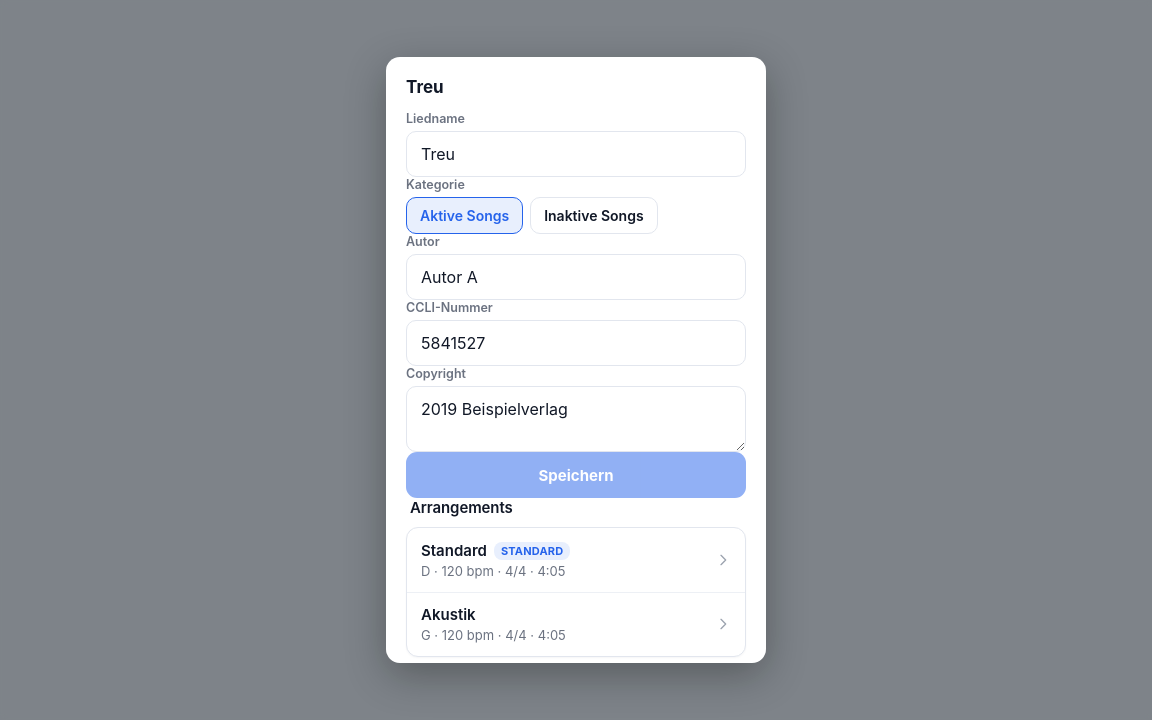
Test case: EditSongSheet – Arrangements (#396) › am zweiten Arrangement gibt es beides
Click the button "Akustik G · 120 bpm · 4/4 · 4:05": (448, 615) left=407, top=592, right=745, bottom=656
(page scrolled)
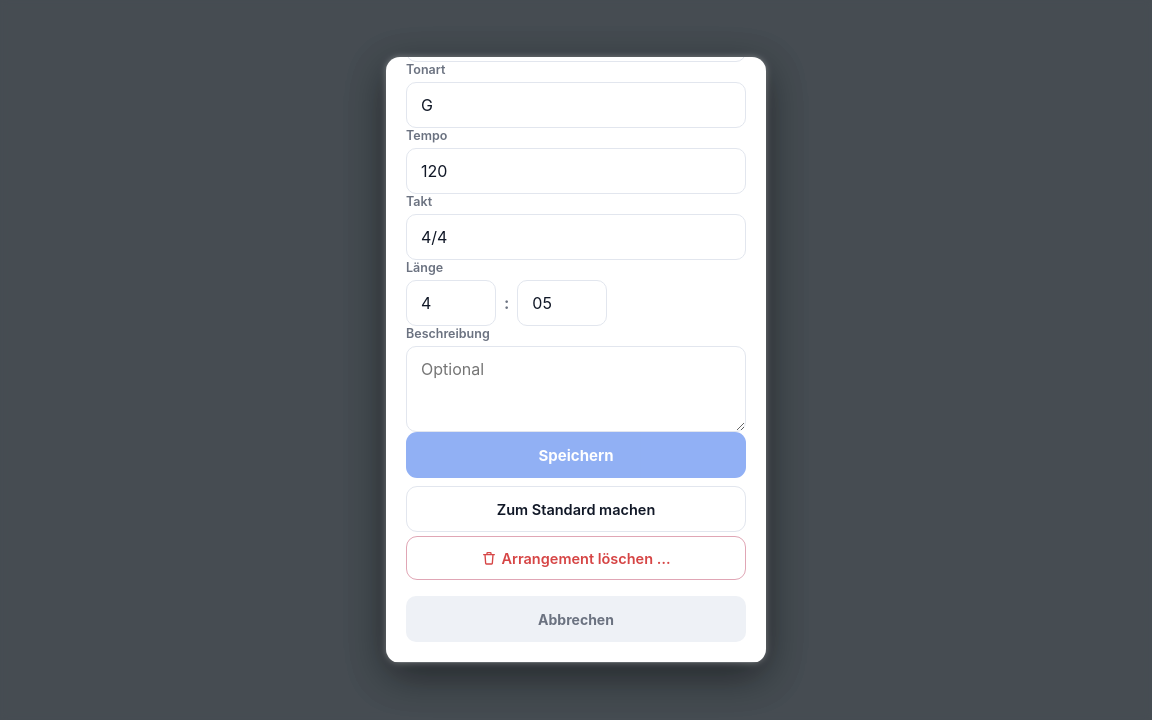
Check: the button "Zum Standard machen" is shown, box left=406, top=486, right=746, bottom=532
Check: the button "Arrangement löschen …" is shown, box left=406, top=536, right=746, bottom=580
